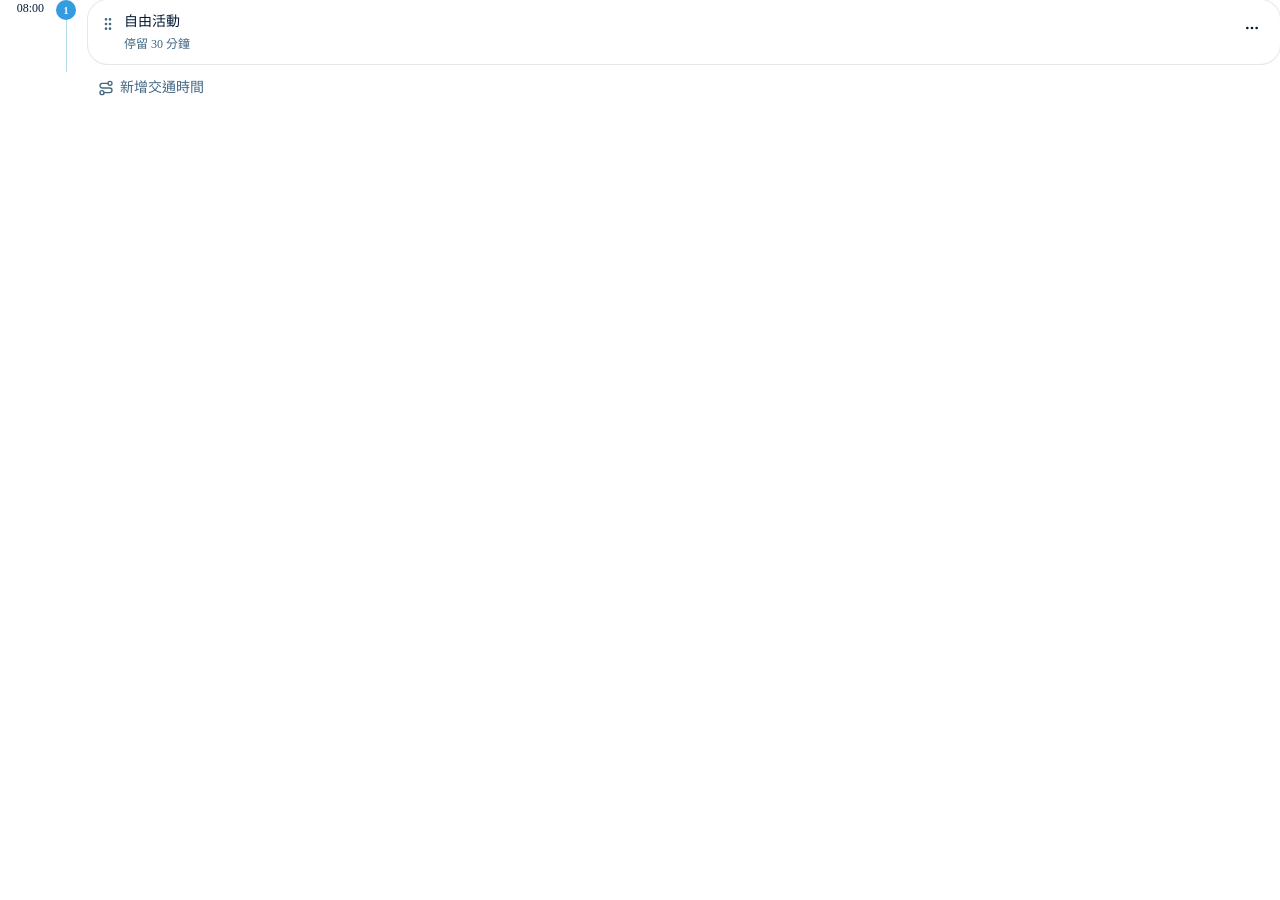
Test: ActivityList 時間軸呈現 › 點擊沒有備註的行程仍會開啟彈窗並顯示尚無備註
The width and height of the screenshot is (1280, 900).
What coordinates should you click on to do the following:
click the button "自由活動 停留 30 分鐘"
I would click on:
 (152, 22)
Its box is [88,0,1279,64].
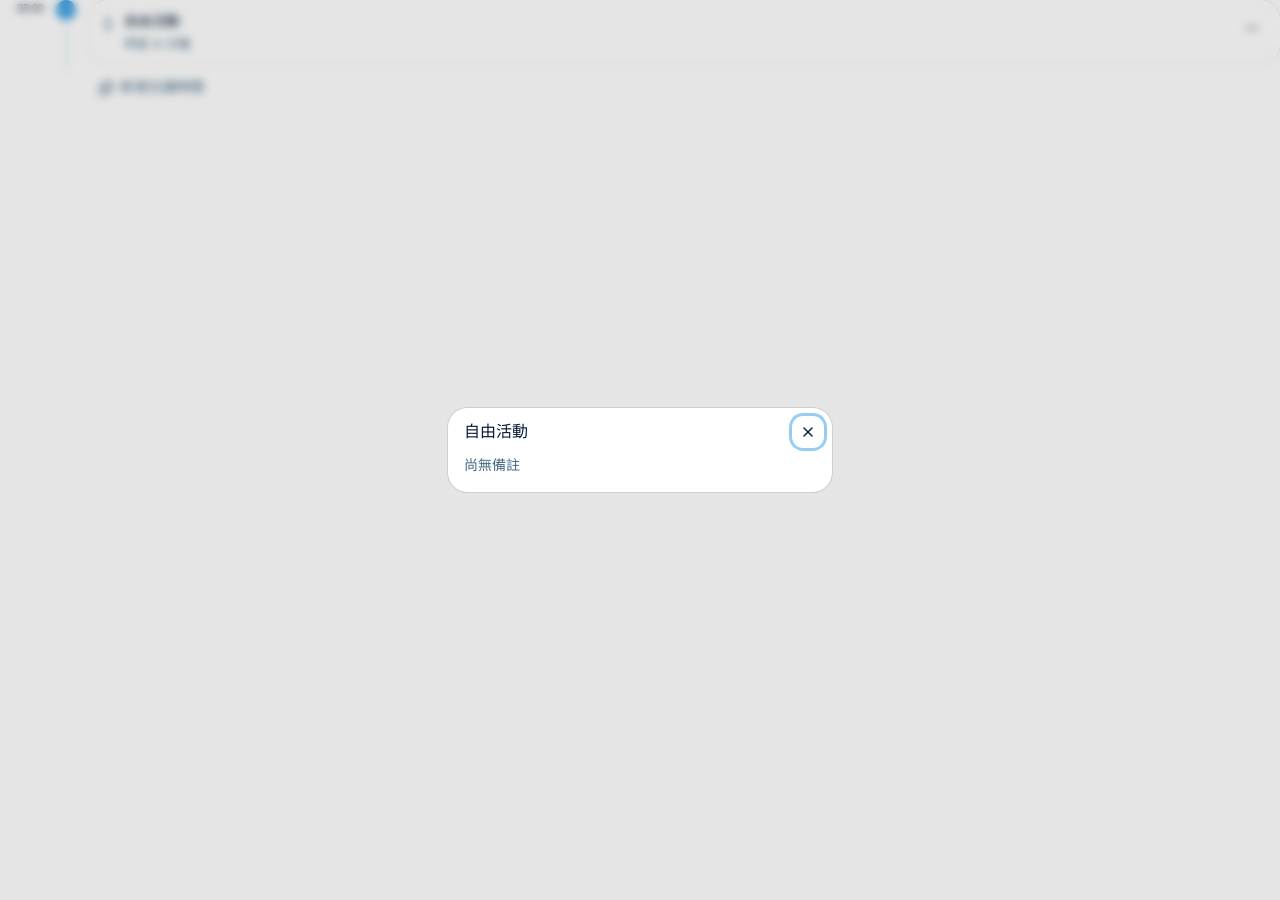
Expected: the heading "自由活動" is shown, [464,423,528,440]
Expected: the text "尚無備註" is shown, [464,458,520,473]
